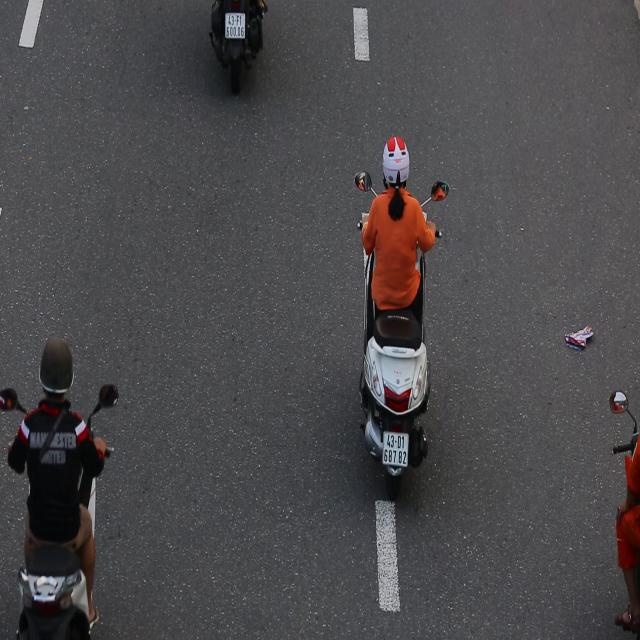motorbike: (348, 127, 448, 510)
